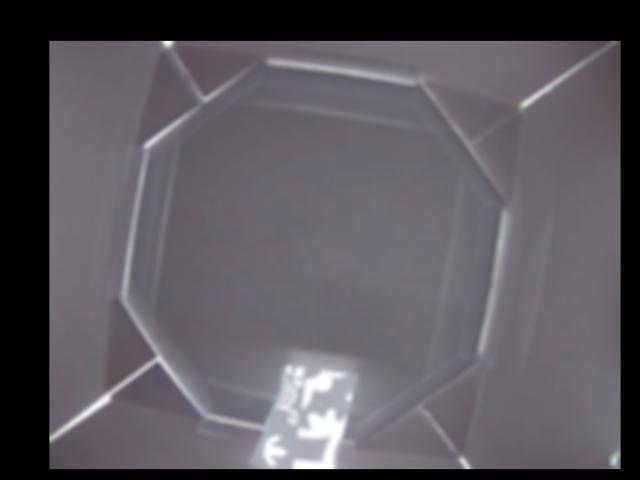China: (243, 364, 357, 469)
